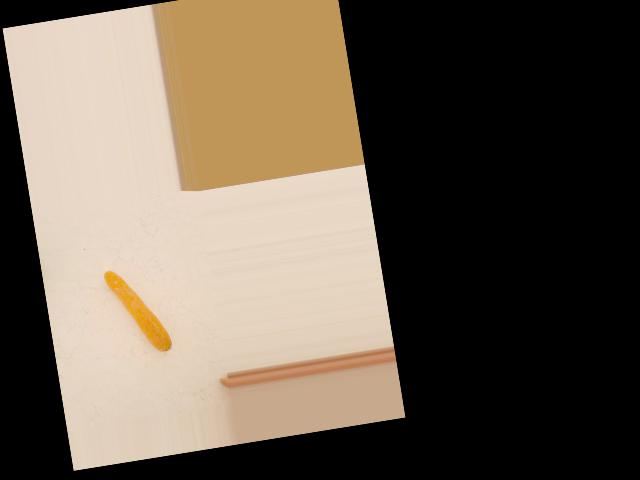carrot: (102, 262, 175, 360)
